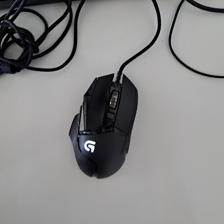mouse: (67, 73, 139, 180)
